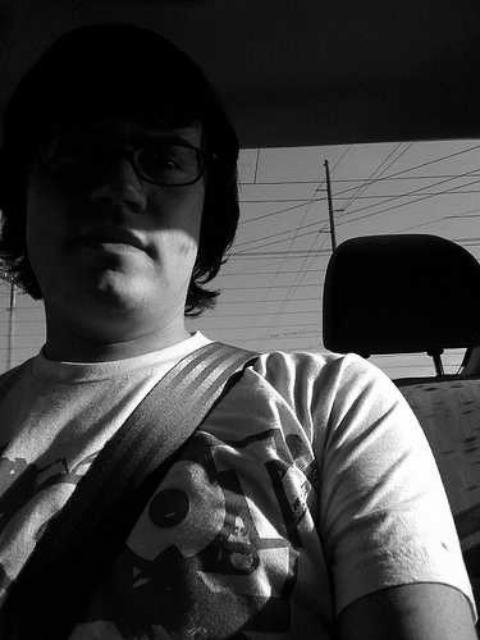Seatbelt: (0, 338, 266, 640)
